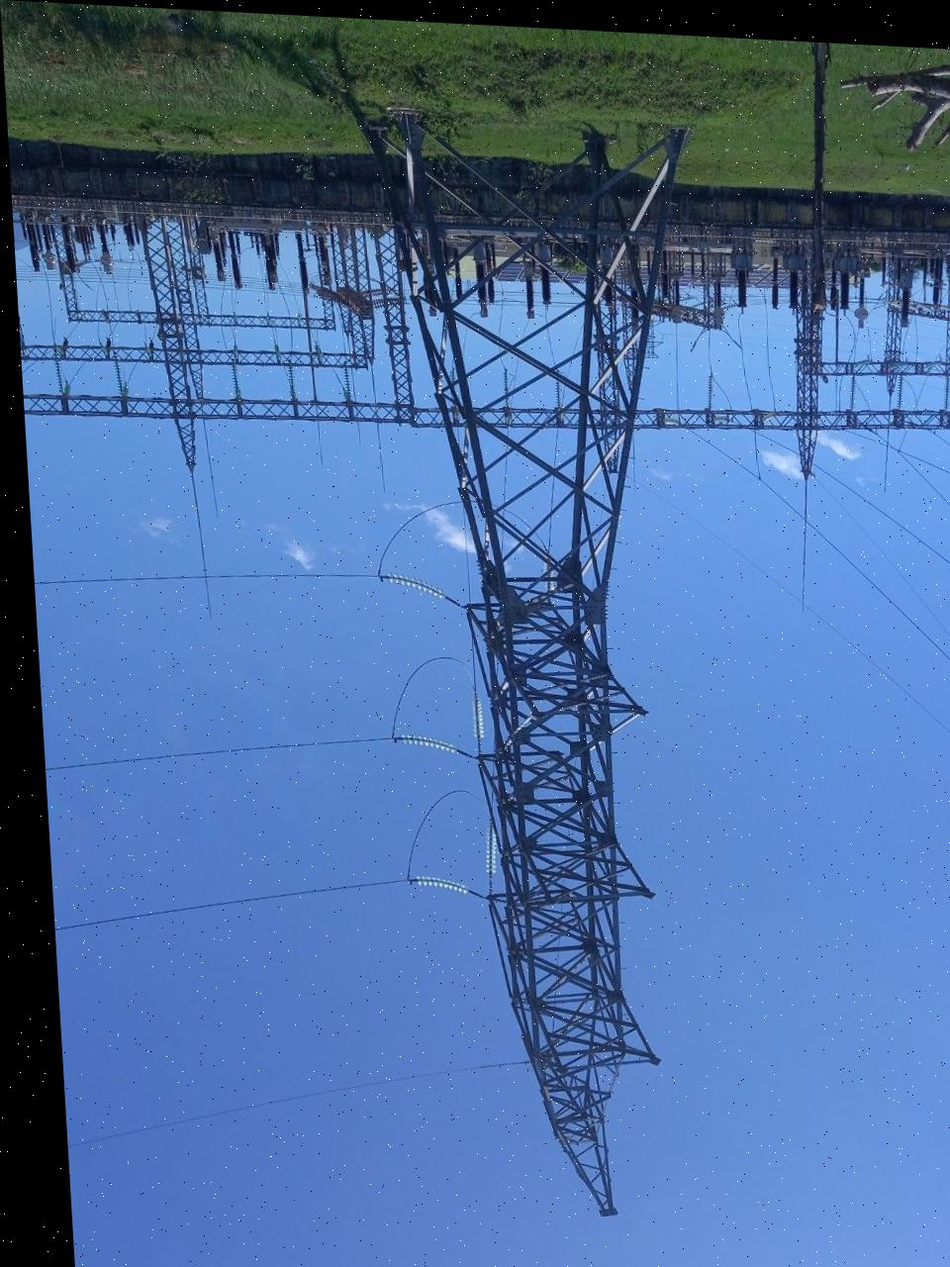tower: (297, 75, 741, 1257)
